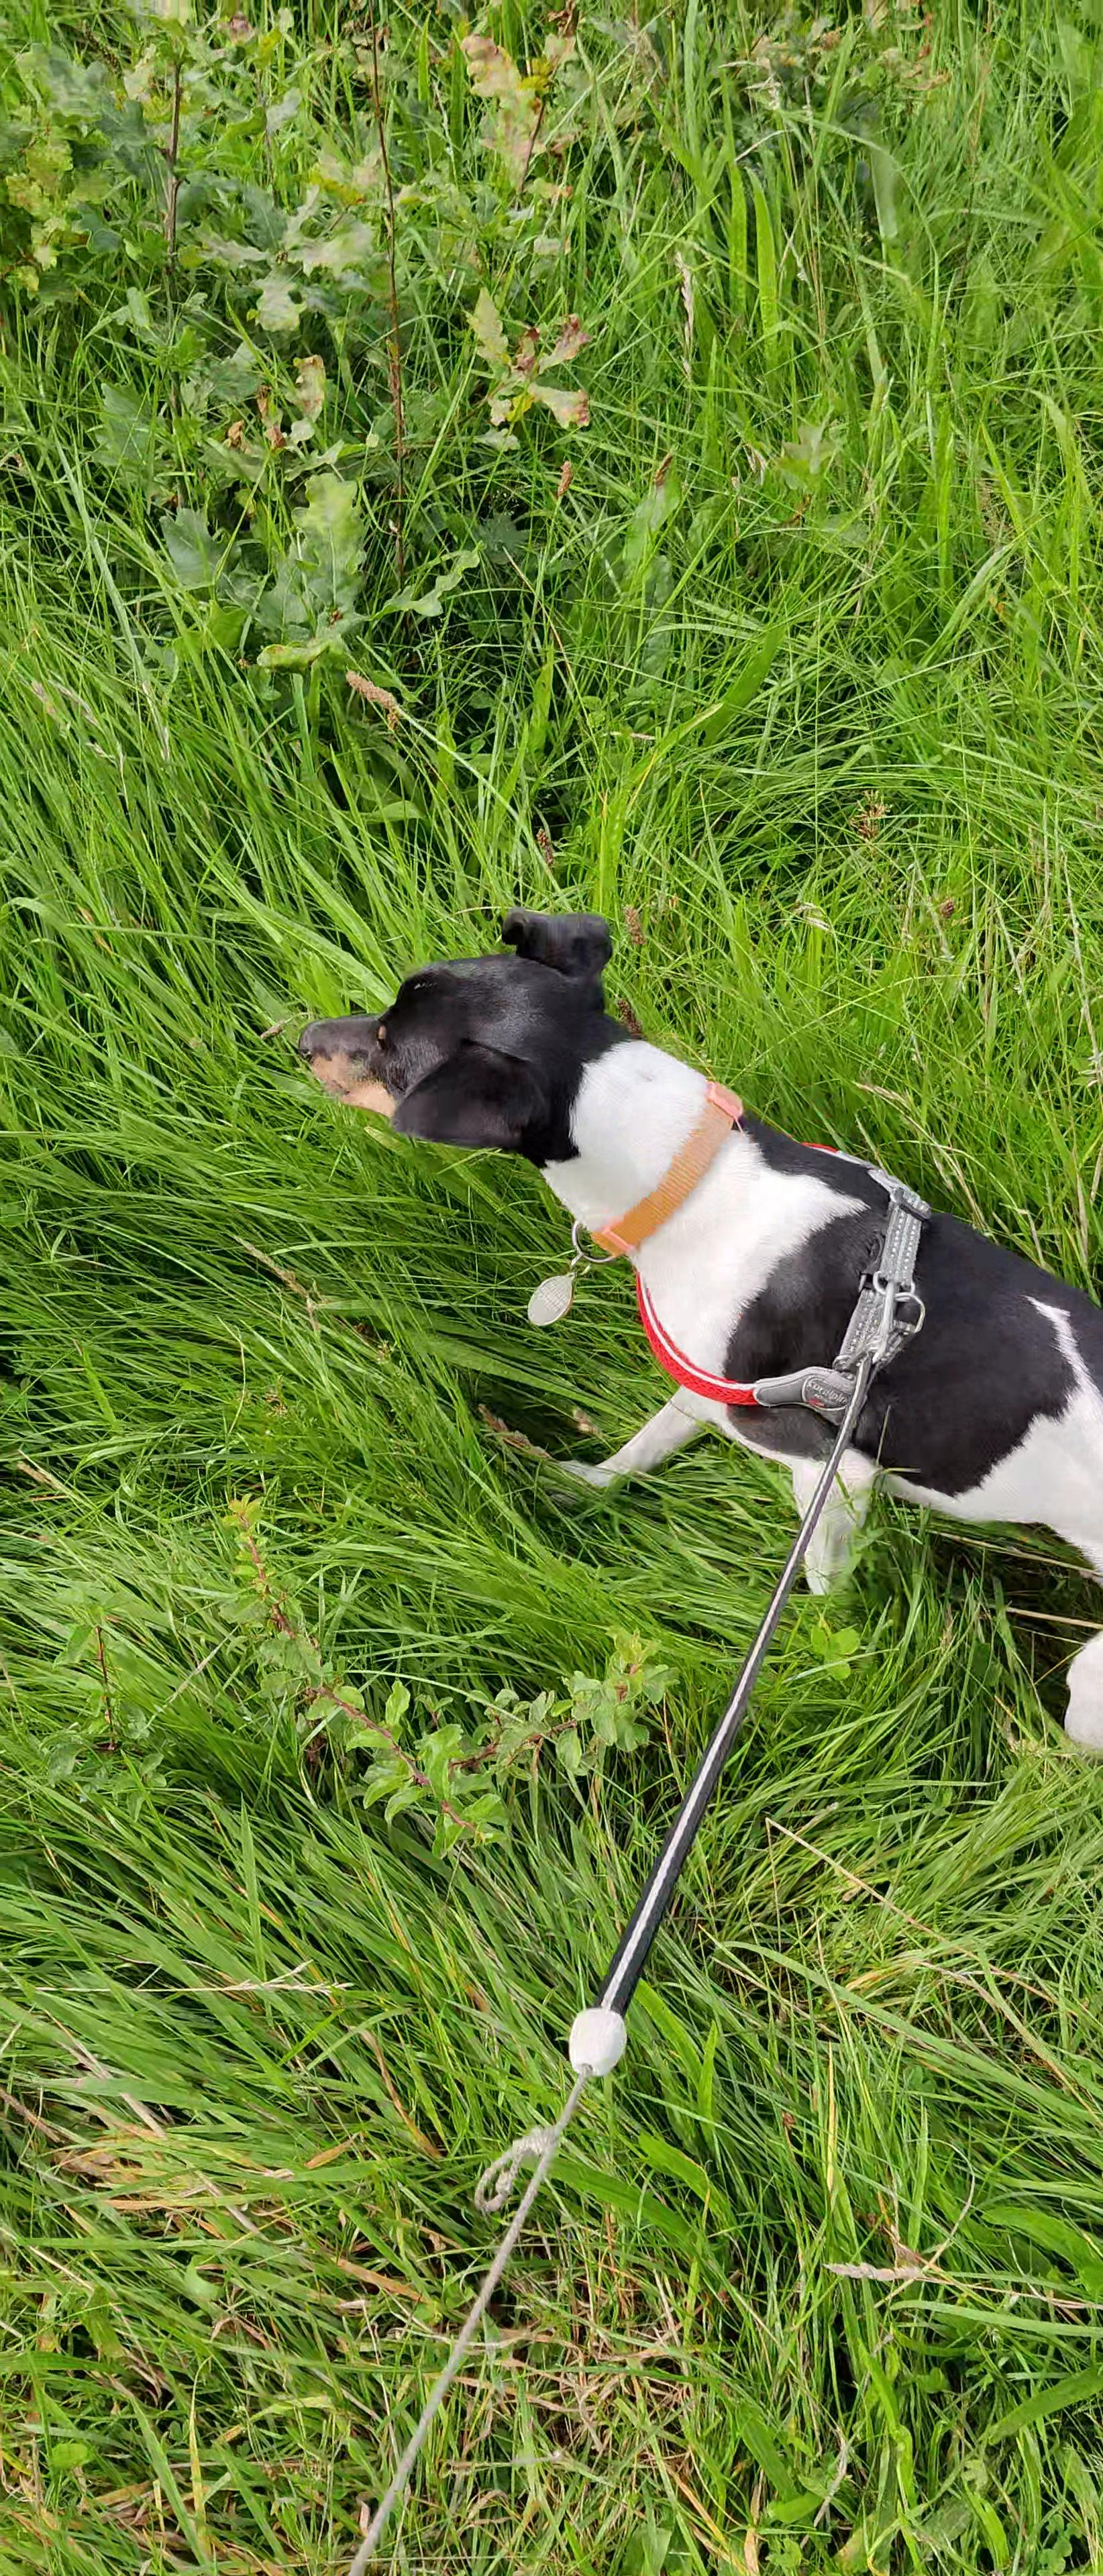Dog: (227, 866, 1103, 1776)
